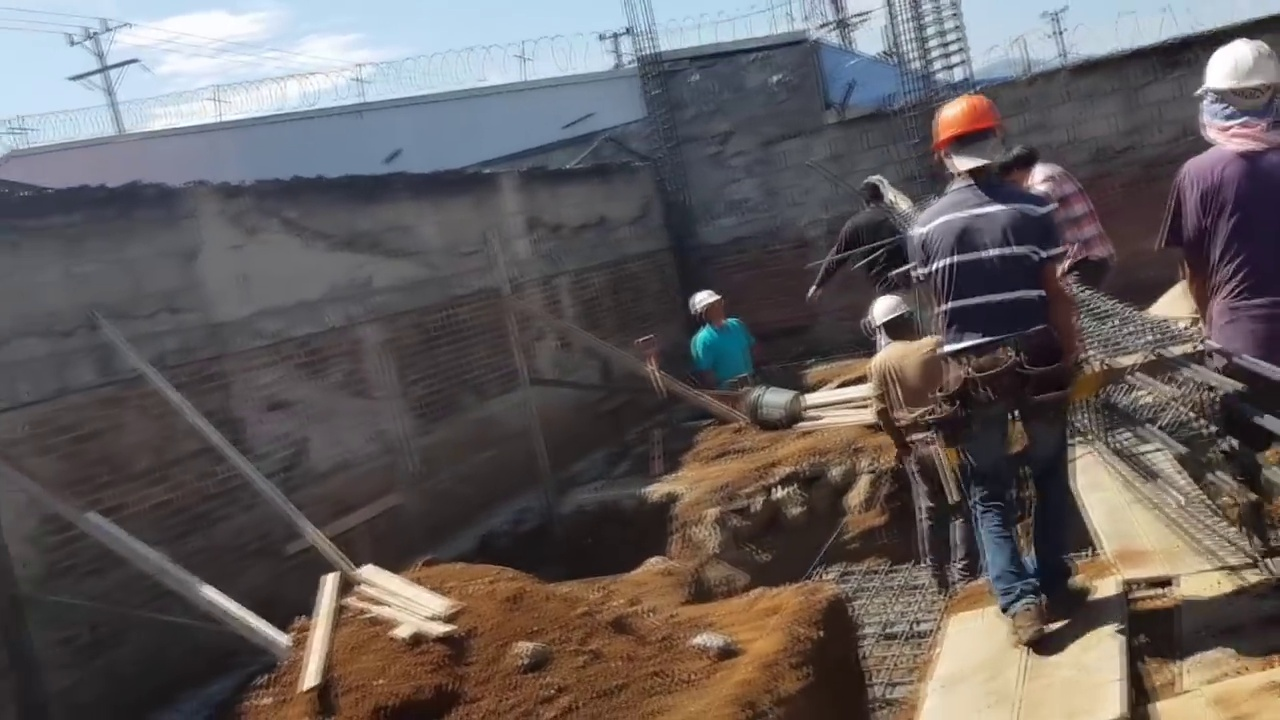helmet: (930, 91, 1002, 149), (1201, 41, 1278, 93), (866, 294, 912, 331), (687, 289, 723, 317)
helmet-off: (997, 141, 1041, 189), (856, 176, 890, 215)
helmet-on: (1196, 38, 1280, 150), (930, 90, 1003, 192), (866, 296, 924, 345), (687, 289, 727, 332)
person: (905, 88, 1077, 657), (1167, 35, 1280, 406), (866, 294, 982, 594), (998, 139, 1118, 294), (805, 174, 912, 302), (687, 289, 756, 386)
